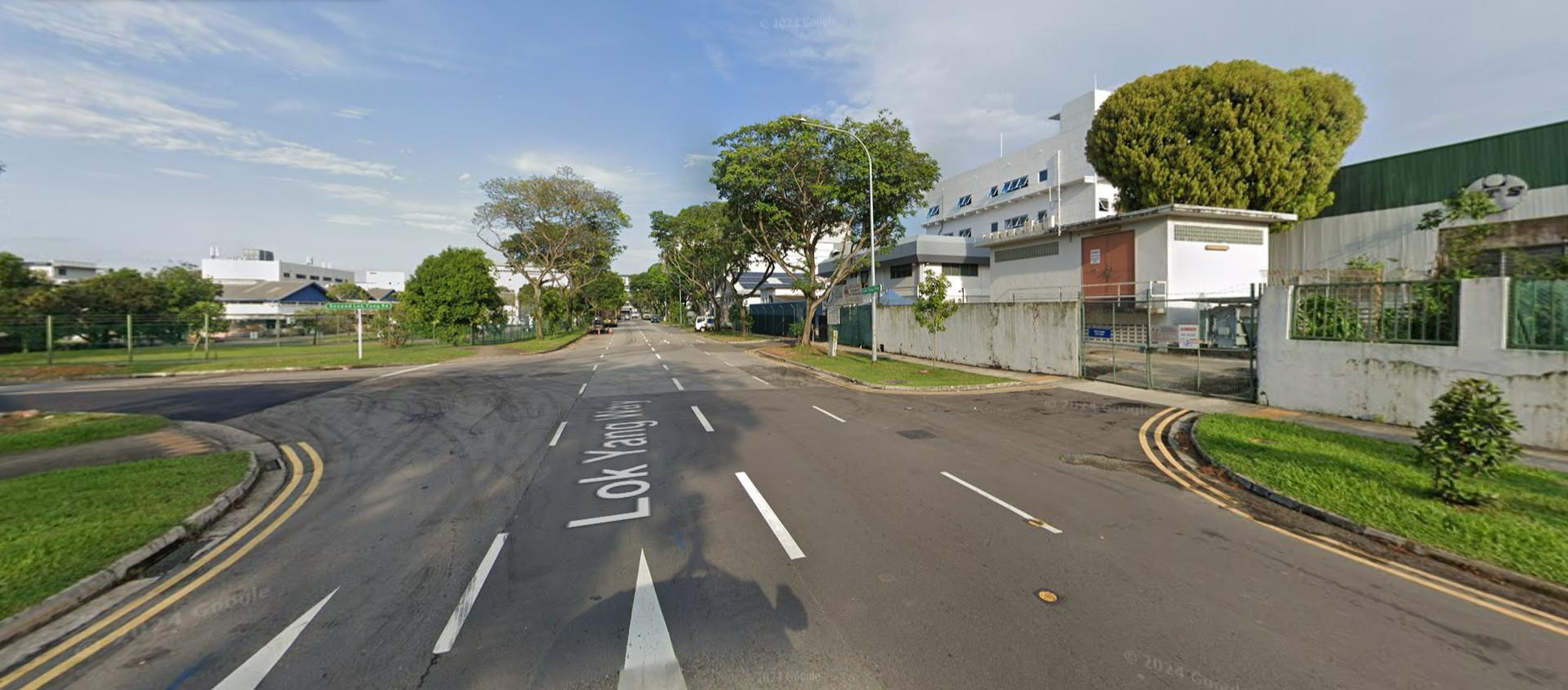defect: (259, 457, 282, 473)
normal: (130, 539, 217, 578)
